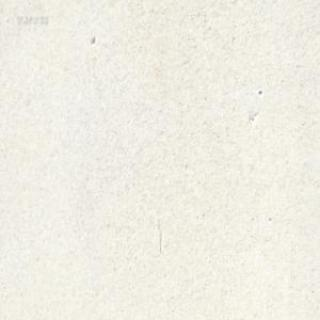Wrenchtrack_idkeyframe: (165, 0, 171, 4)
